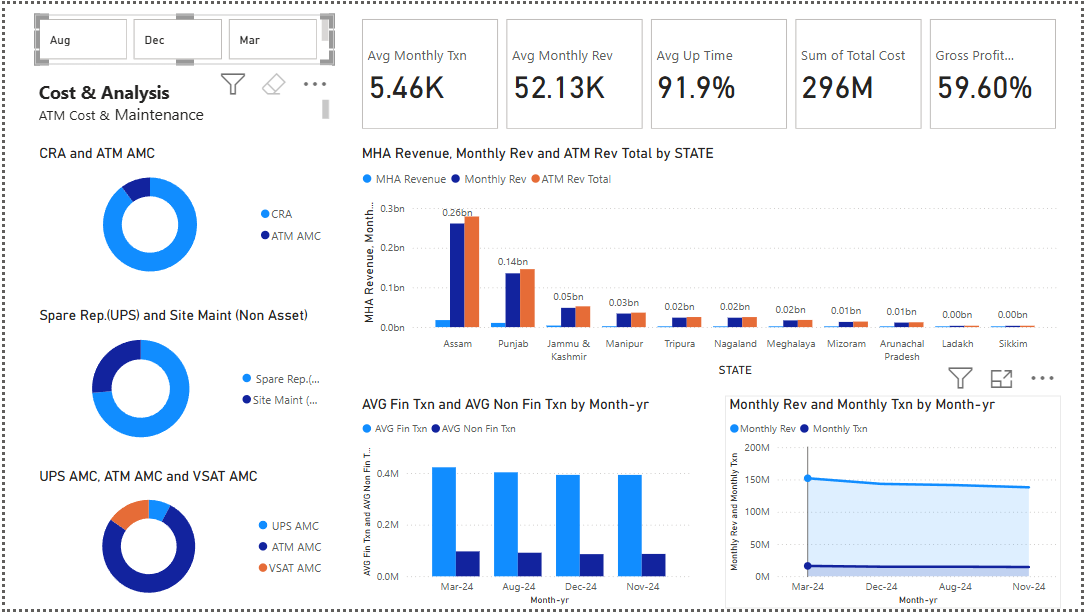

What the dashboard file says about the page in this screenshot:
{"tool":"powerbi","page":{"name":"Overview","canvas":[1280,720],"ordinal":0},"visuals":[{"type":"donutChart","fields":{"Y":["Sum(Dataset.CRA)","Sum(Dataset.ATM AMC)"]},"box":[34.8,167.6,355.1,169.3],"z":0},{"type":"donutChart","fields":{"Y":["Sum(Dataset.Spare Rep.(UPS))","Sum(Dataset.Site Maint (Non Asset))"]},"box":[34.8,360.1,355.1,174.2],"z":1000},{"type":"donutChart","fields":{"Y":["Sum(Dataset.UPS AMC)","Sum(Dataset.ATM AMC)","Sum(Dataset.VSAT AMC)"]},"box":[34.8,550.9,355.1,167.6],"z":2000},{"type":"clusteredColumnChart","fields":{"Y":["Sum(Dataset.MHA Revenue)","Sum(Dataset.Monthly Rev)","Sum(Dataset.ATM Rev Total)"],"Category":["Dataset.STATE"]},"box":[419.8,167.6,838,280.5],"z":3000},{"type":"clusteredColumnChart","fields":{"Category":["Dataset.Month-yr"],"Y":["Sum(Dataset.AVG Fin Txn)","Sum(Dataset.AVG Non Fin Txn)"]},"box":[419.8,466.3,403.3,253.9],"z":4000},{"type":"areaChart","fields":{"Category":["Dataset.Month-yr"],"Y":["Sum(Dataset.Monthly Rev)","Sum(Dataset.Monthly Txn)"]},"box":[856.3,466.3,401.6,253.9],"z":5000},{"type":"advancedSlicerVisual","fields":{"Values":["Dataset.Short_Month"]},"box":[35.3,11.8,354.9,58.8],"z":6000},{"type":"cardVisual","fields":{"Data":["Avg(Dataset.Monthly Txn)","Avg(Dataset.Monthly Rev)","Avg(Dataset.Up Time)"]},"box":[419.8,11.6,516.1,141.1],"z":7000},{"type":"cardVisual","fields":{"Data":["Sum(Dataset. Total Cost  )","Dataset.Gross Profit Percentage"]},"box":[935.9,11.6,321.9,141.1],"z":8000},{"type":"textbox","box":[34.8,84.6,355.1,68],"z":9000}]}

Visuals, with their boxes in screenshot pixels (x1, y1, x2, y2), scaled from the page's 1280x720 canvas onto the 1085x613 screenshot:
donutChart - Sum(Dataset.CRA) x Sum(Dataset.ATM AMC): (29,143,331,287)
donutChart - Sum(Dataset.Spare Rep.(UPS)) x Sum(Dataset.Site Maint (Non Asset)): (29,307,331,455)
donutChart - Sum(Dataset.UPS AMC) x Sum(Dataset.ATM AMC): (29,469,331,612)
clusteredColumnChart - Sum(Dataset.MHA Revenue) x Sum(Dataset.Monthly Rev): (356,143,1066,382)
clusteredColumnChart - Dataset.Month-yr x Sum(Dataset.AVG Fin Txn): (356,397,698,612)
areaChart - Dataset.Month-yr x Sum(Dataset.Monthly Rev): (726,397,1066,612)
advancedSlicerVisual - Dataset.Short_Month: (30,10,331,60)
cardVisual - Avg(Dataset.Monthly Txn) x Avg(Dataset.Monthly Rev): (356,10,793,130)
cardVisual - Sum(Dataset. Total Cost  ) x Dataset.Gross Profit Percentage: (793,10,1066,130)
textbox: (29,72,331,130)
